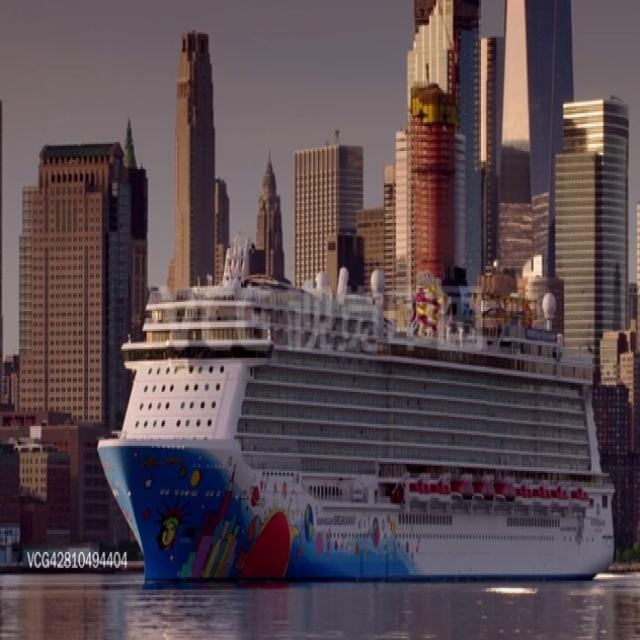passenger ship: (94, 254, 609, 581)
